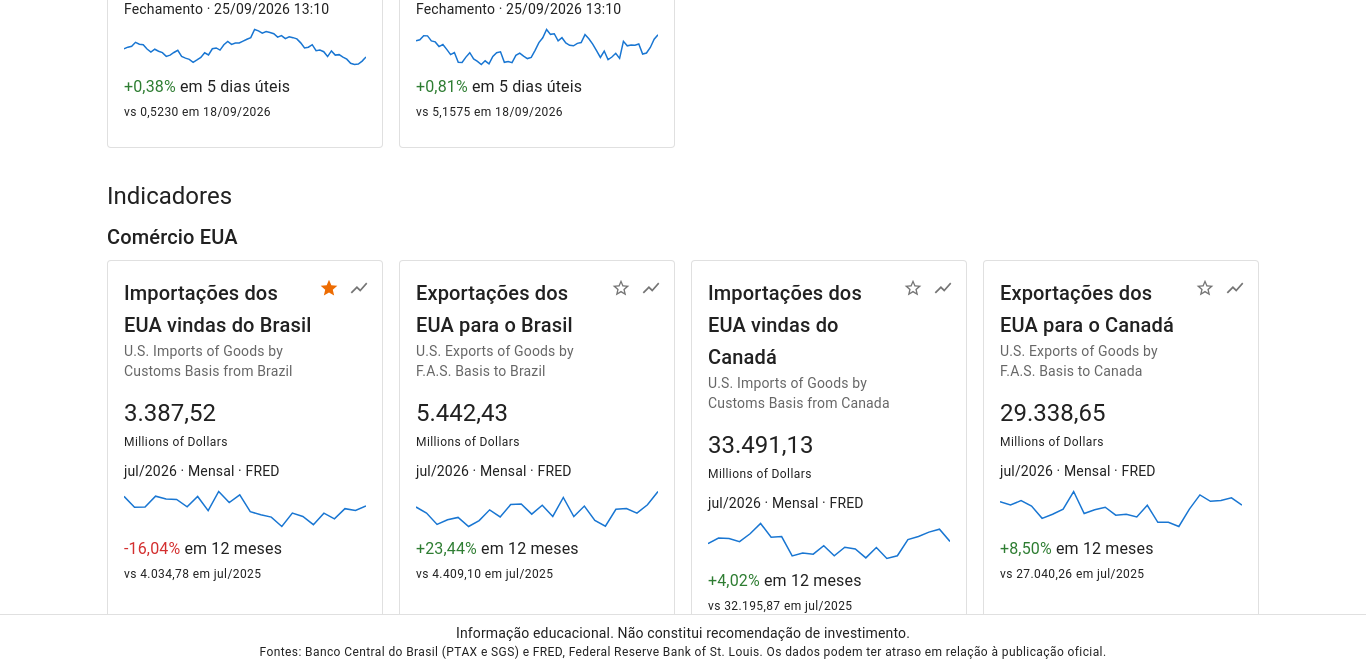
Scenario: App › should show an error alert instead of the chart when the chart modal code cannot be loaded
The width and height of the screenshot is (1366, 671).
(page scrolled)
Step 1. Click the button named "Ver gráfico de Importações dos EUA vindas do Brasil" → (359, 288), box top-left (344, 273), bottom-right (374, 303)
(page scrolled)
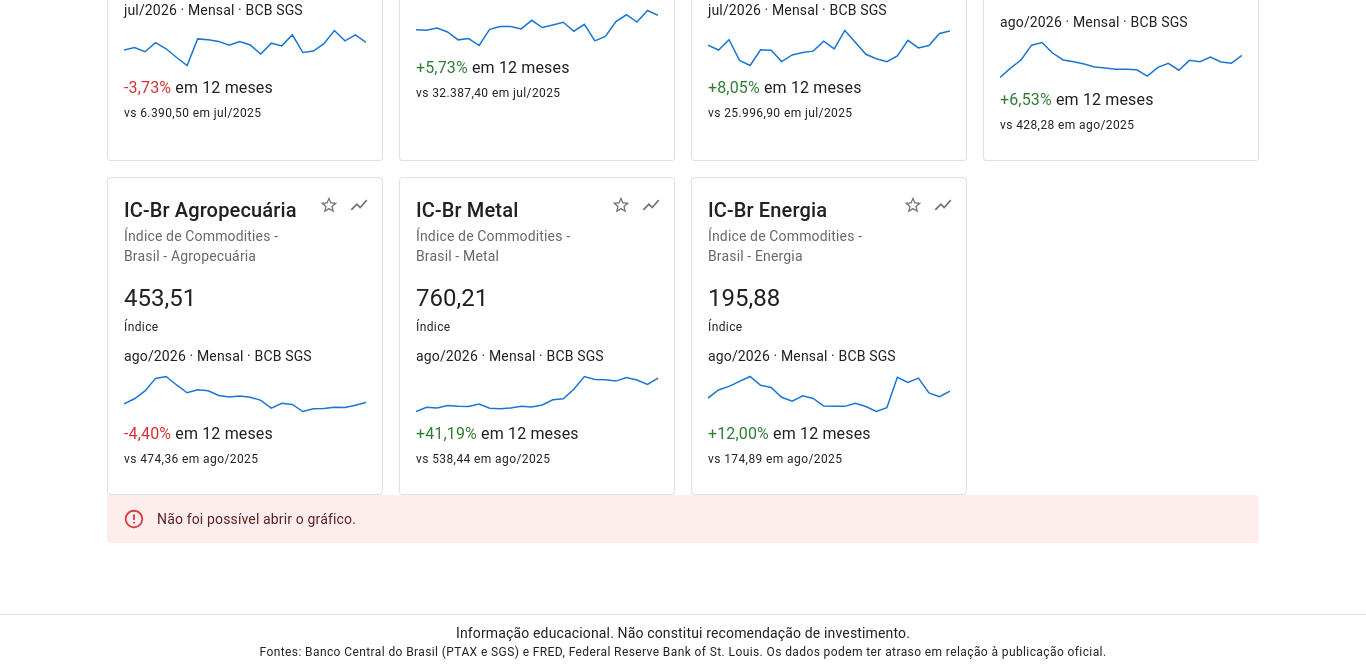
expect the message reads "Não foi possível abrir o gráfico.": met, box top-left (157, 511), bottom-right (356, 527)
